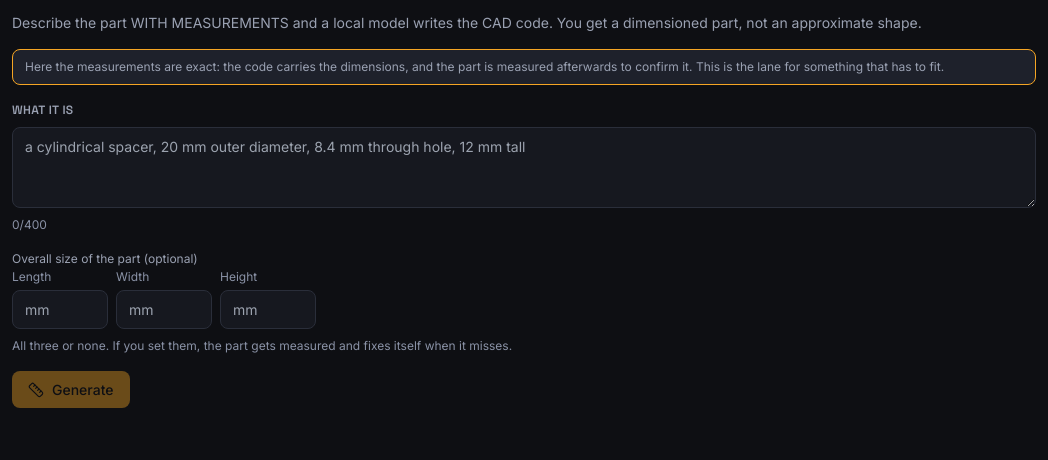
Test case: guardas › un error del servidor se muestra en vez de tragarse
Replace the text in the text box labelled "What it is 0/400" with "un espaciador de 20 mm" at (524, 168), box [12,127,1036,208]
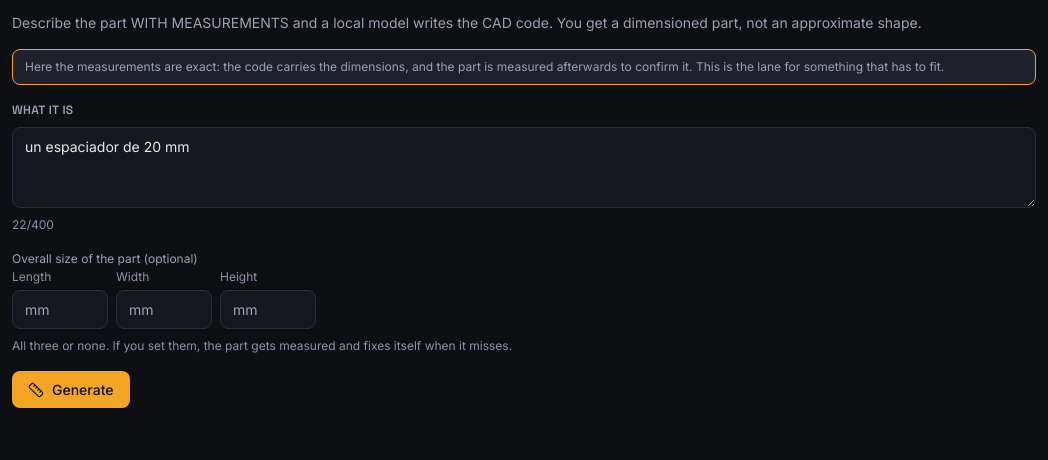
Click the button "Generate".
click(71, 390)  # box [12,371,130,408]
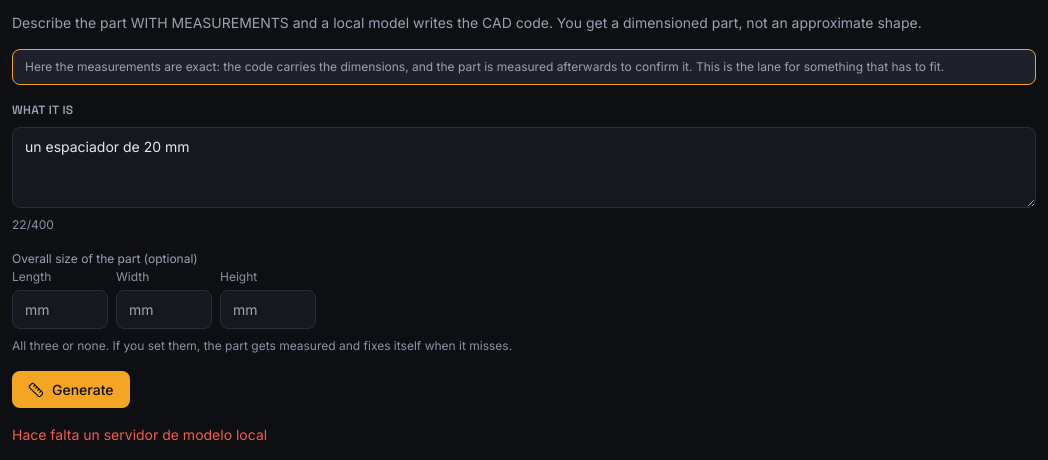
Result: the message shows "servidor de modelo" at [12,426,267,443]
